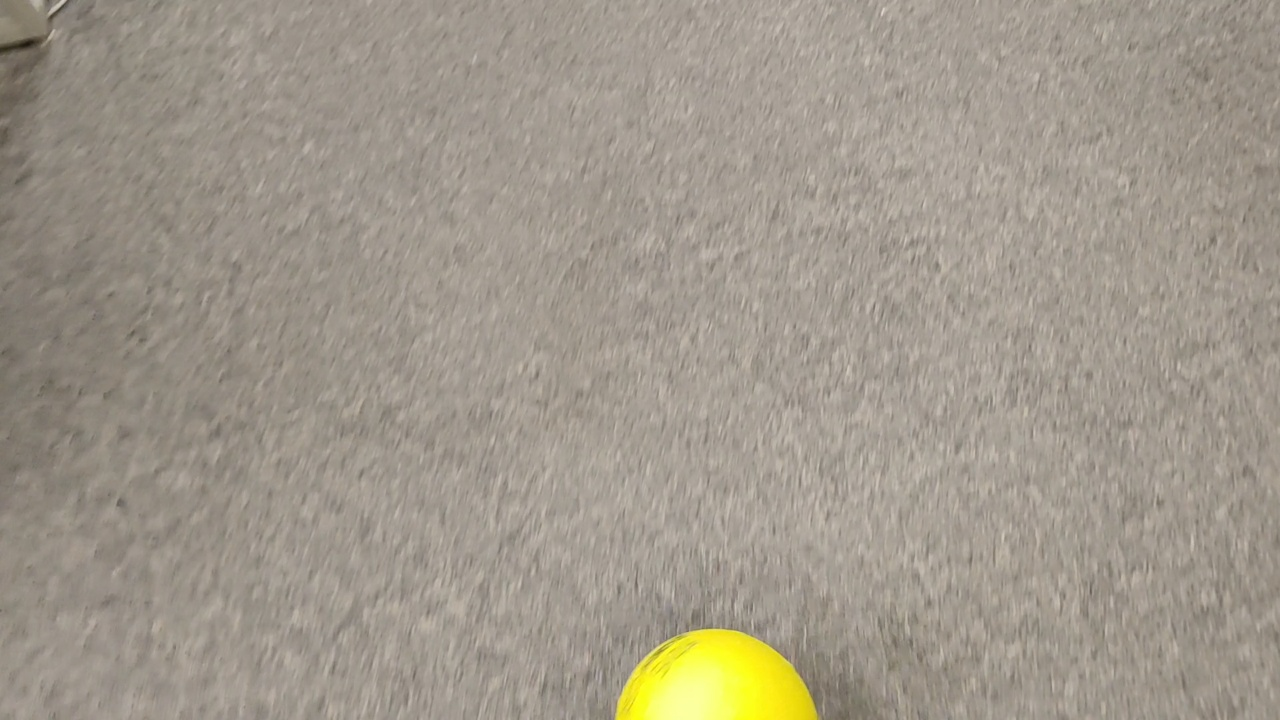Ball: (615, 628, 821, 720)
